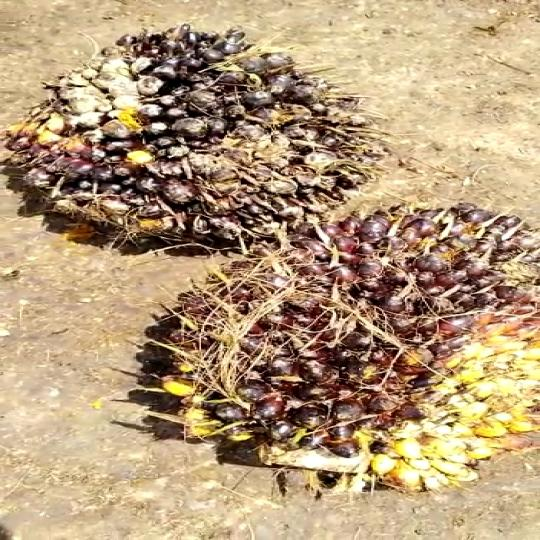mentah: (133, 202, 540, 498), (0, 14, 428, 252)
